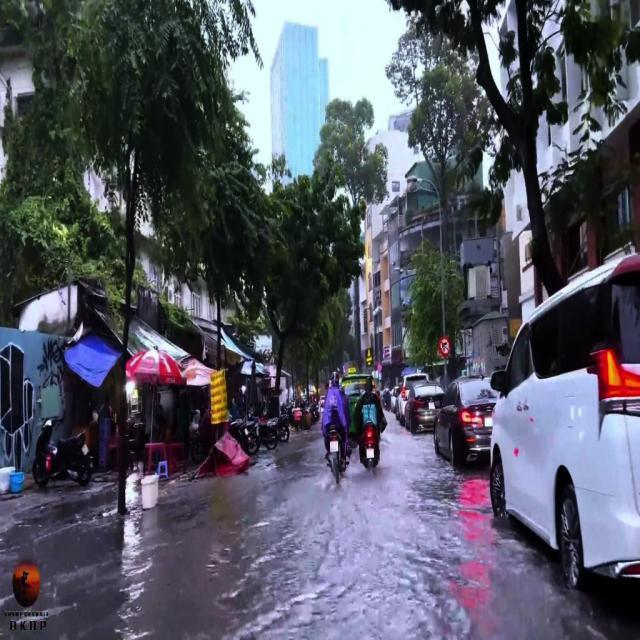123b-cam-re-phai: (437, 336, 452, 356)
